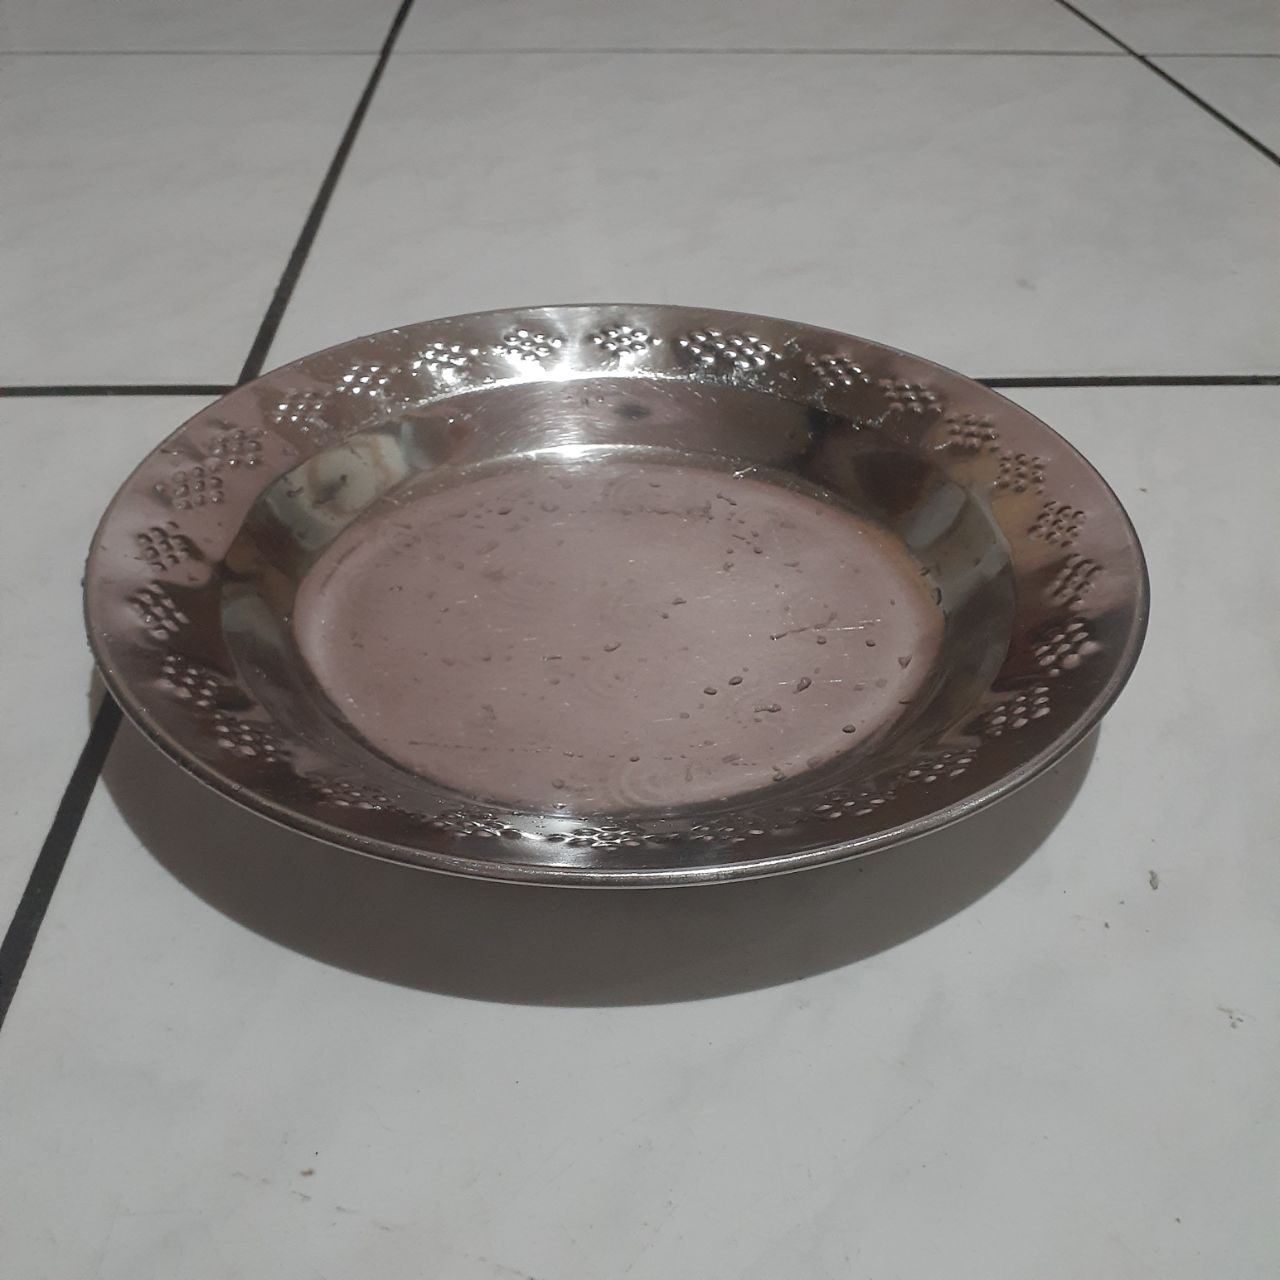piring: (75, 297, 1150, 903)
